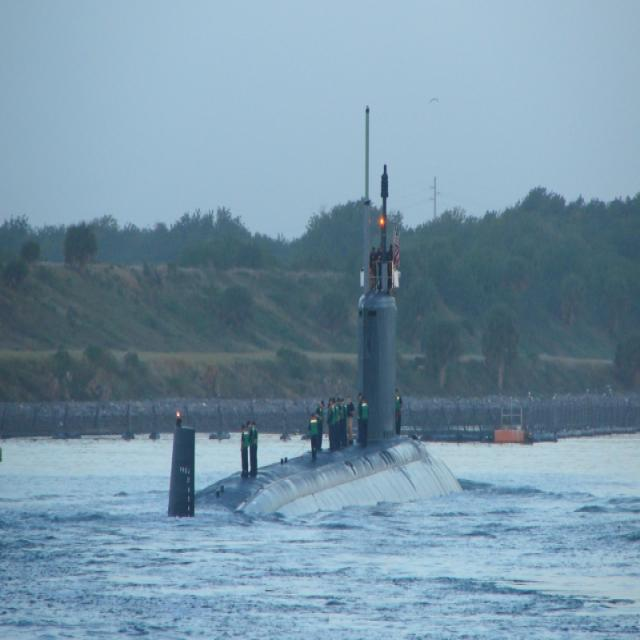submarine: (156, 101, 459, 526)
